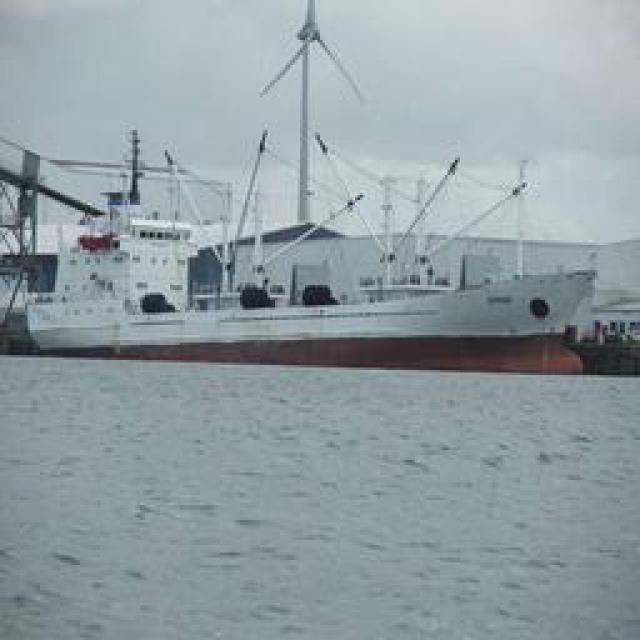Ship: (21, 69, 621, 354)
